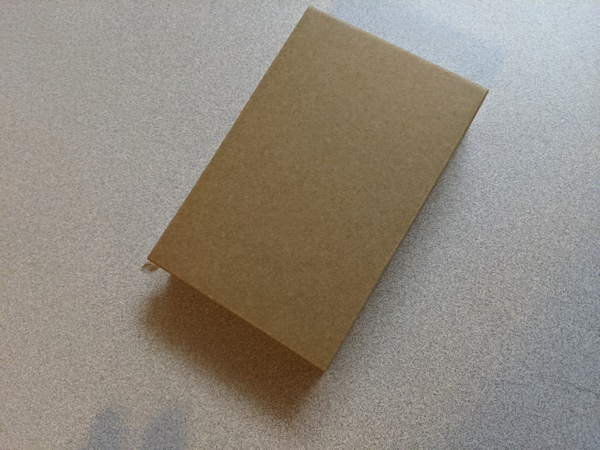cardboard: (130, 1, 505, 393)
